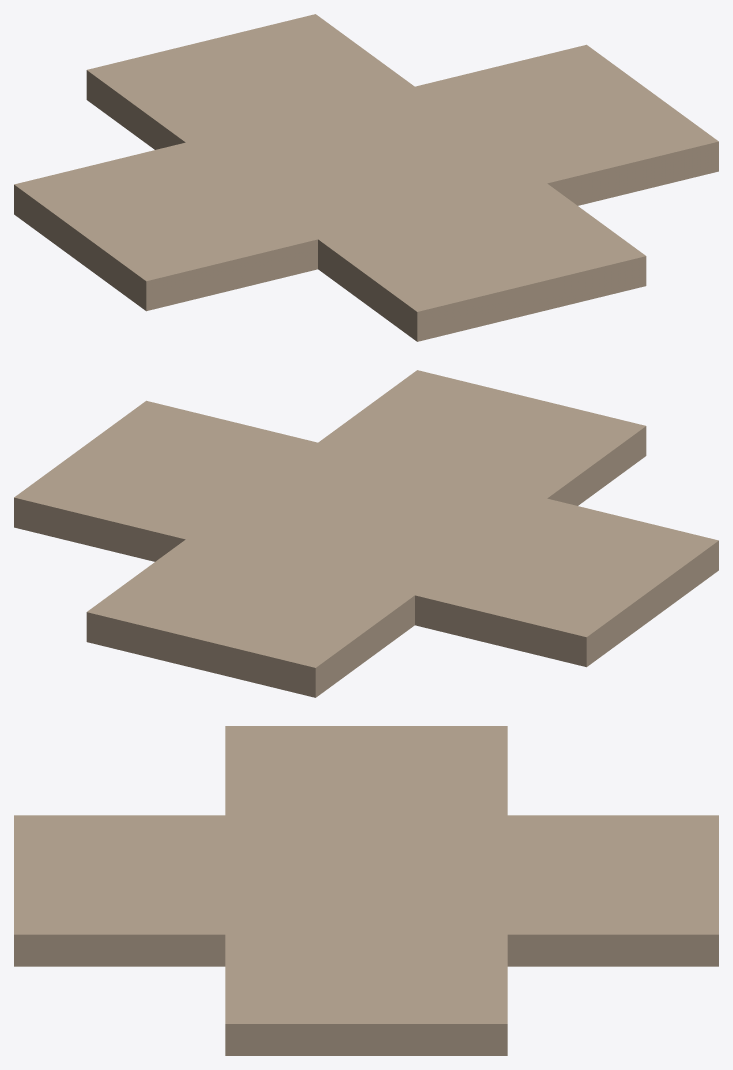
The model's file is path_cross.glb.
3 views of the same model, one above another, from view 1: azimuth 30°, elevation 25°; view 2: azimuth 150°, elevation 25°; view 3: azimuth 270°, elevation 25° (orthographic). The views are drawn at different scales.
Parts seen in each view (by area): view 1: Cube, Cube.001; view 2: Cube, Cube.001; view 3: Cube, Cube.001.
Boxes of the visible parts, <box> form: Cube: <box>86,14,646,341</box>; Cube.001: <box>14,44,718,311</box>; Cube: <box>86,370,646,697</box>; Cube.001: <box>14,400,718,667</box>; Cube: <box>14,815,718,966</box>; Cube.001: <box>225,726,507,1055</box>.
Bounding box in the file's own units: 2 × 0.1 × 2.
